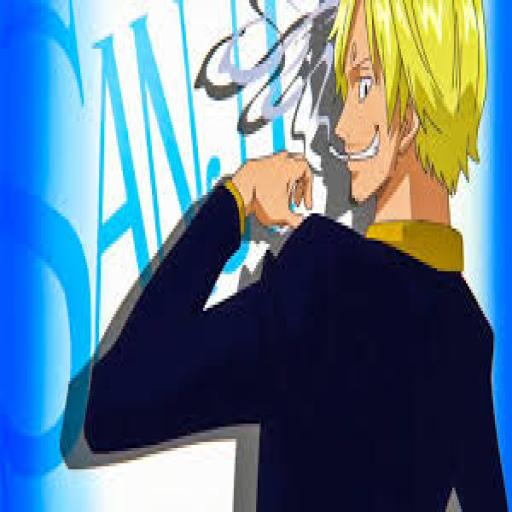sanji: (73, 0, 512, 512)
